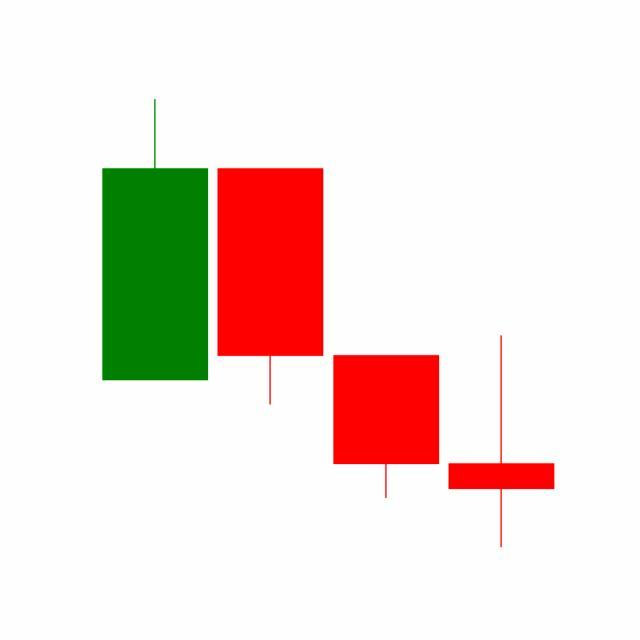Spinning Top: (444, 333, 560, 550)
